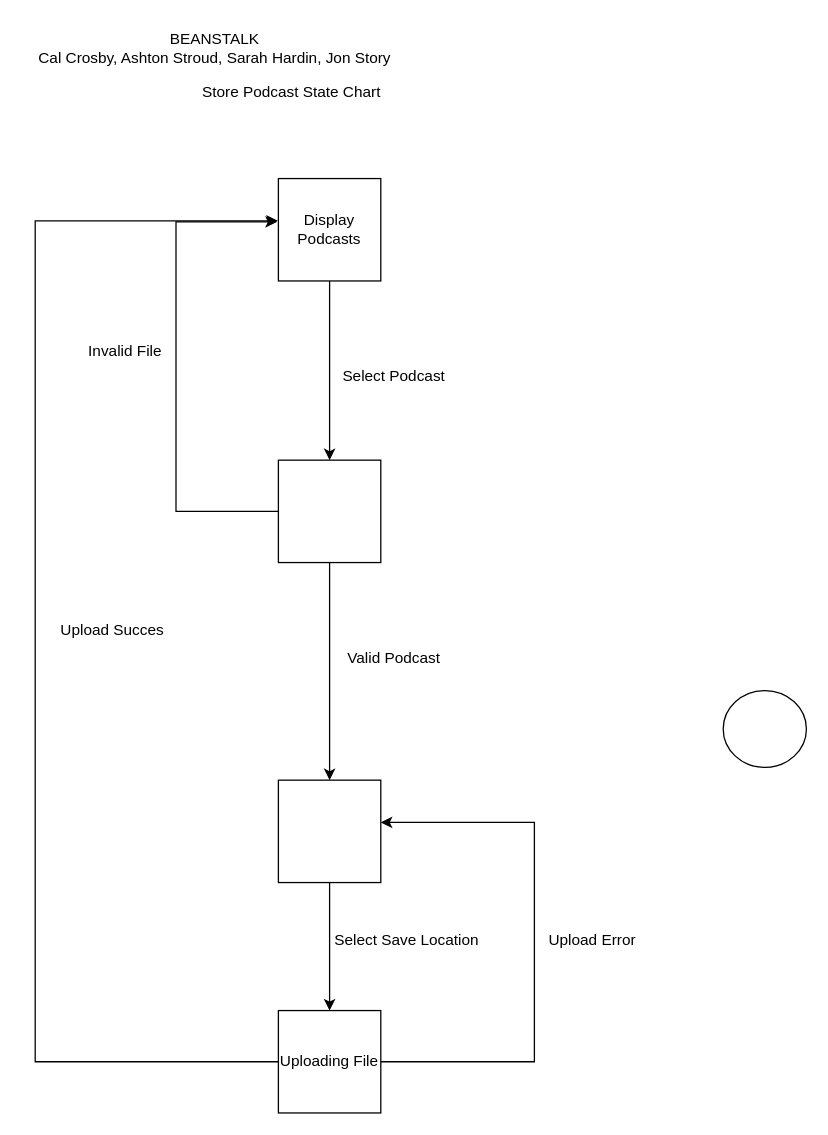
The diagram is 828 pixels wide and 1135 high, and some of its shapes have lost their labels. The centre of each missing label's shape, as x and y in pixels:
Display Save Locations: (329,831)
Vaildating Podcast: (329,511)
